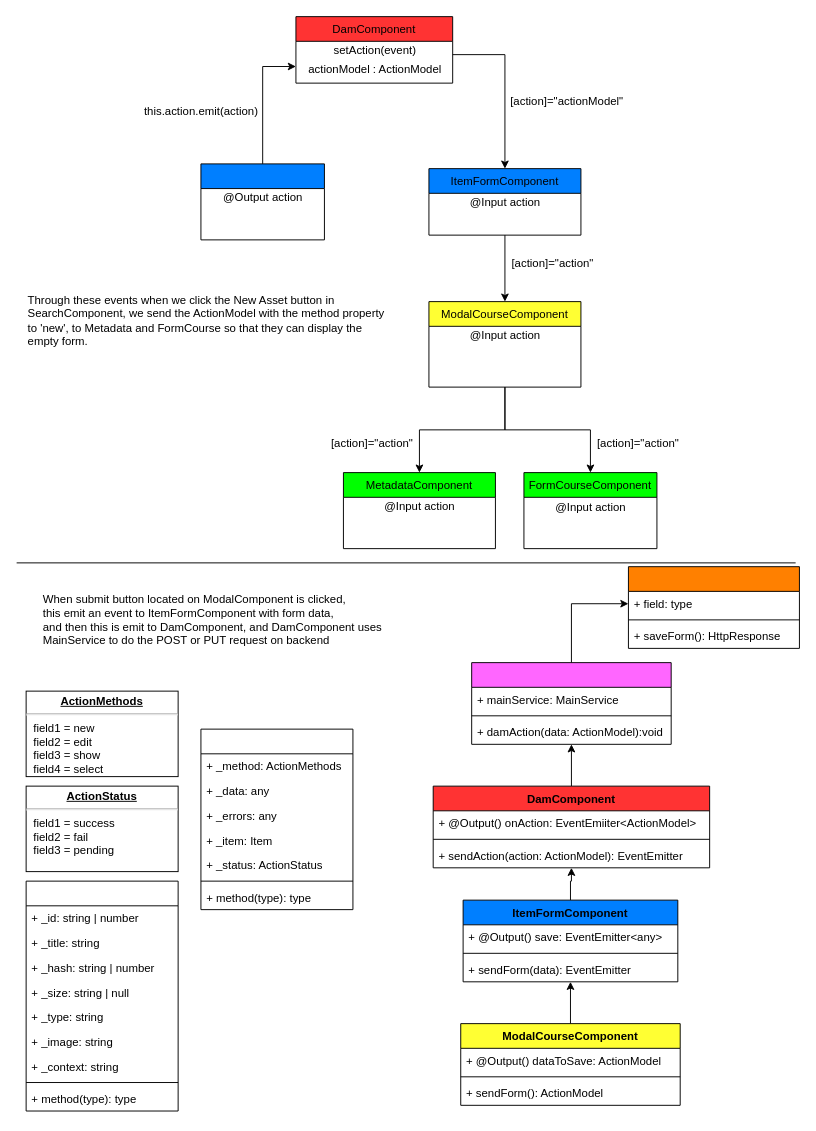
Image size: 816x1131. Some labels were removed from this diagram. The shapes that lost their labels are listed below. From the top down, each one's box as (x1, y1, x2, y2) in pixels, then its label:
(200, 163, 324, 240): SerchComponent
(627, 566, 799, 648): MainService
(471, 662, 671, 744): HomeComponent
(200, 728, 353, 910): ActionModel
(25, 880, 178, 1111): Item
